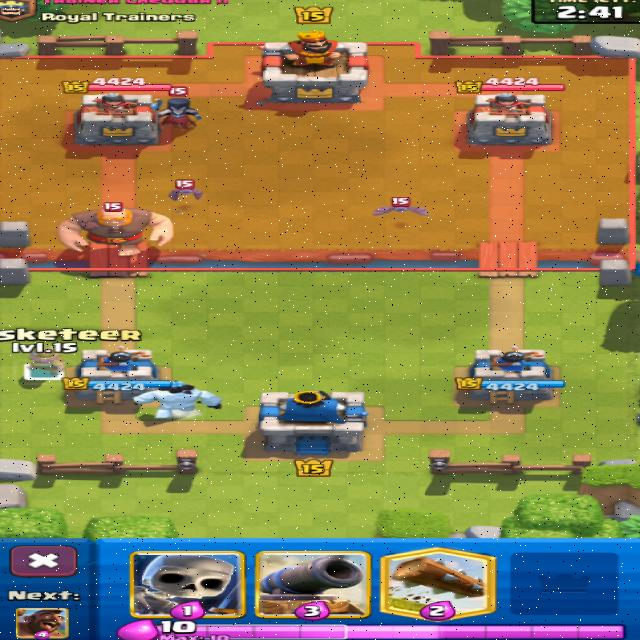Enemy-Bat: (373, 197, 428, 215), (169, 180, 202, 200)
Enemy-Giant: (60, 209, 171, 255)
Enemy-KingTower: (260, 29, 366, 102)
Enemy-NightWitch: (151, 98, 199, 132)
Enemy-PrincessTower: (467, 93, 551, 145), (76, 93, 157, 145)
Player-IceGolem: (134, 382, 220, 418)
Player-KingTower: (259, 390, 368, 455)
Player-PrincessTower: (455, 346, 564, 405), (74, 346, 170, 403)
